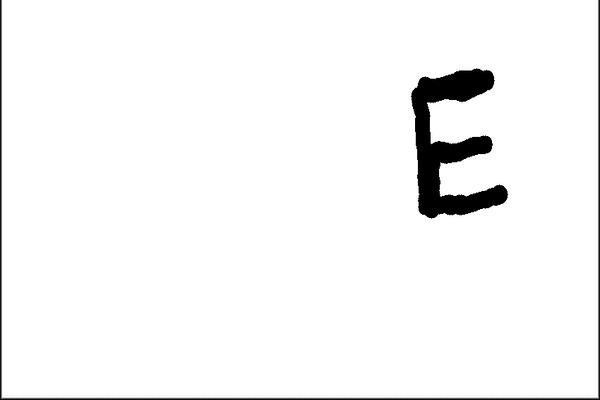F: (404, 61, 516, 221)
